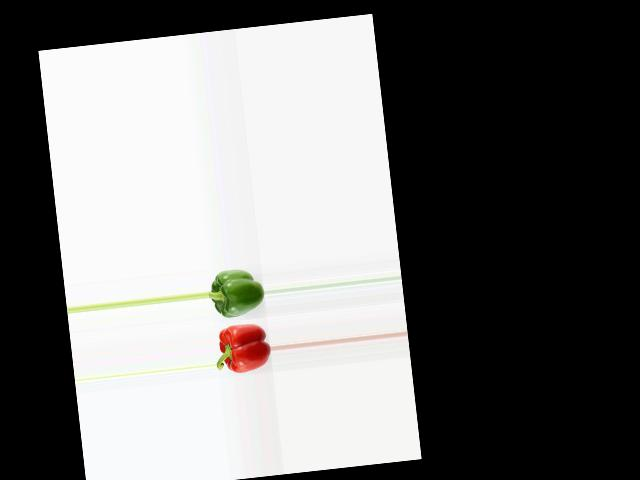bell_pepper: (207, 265, 264, 321)
